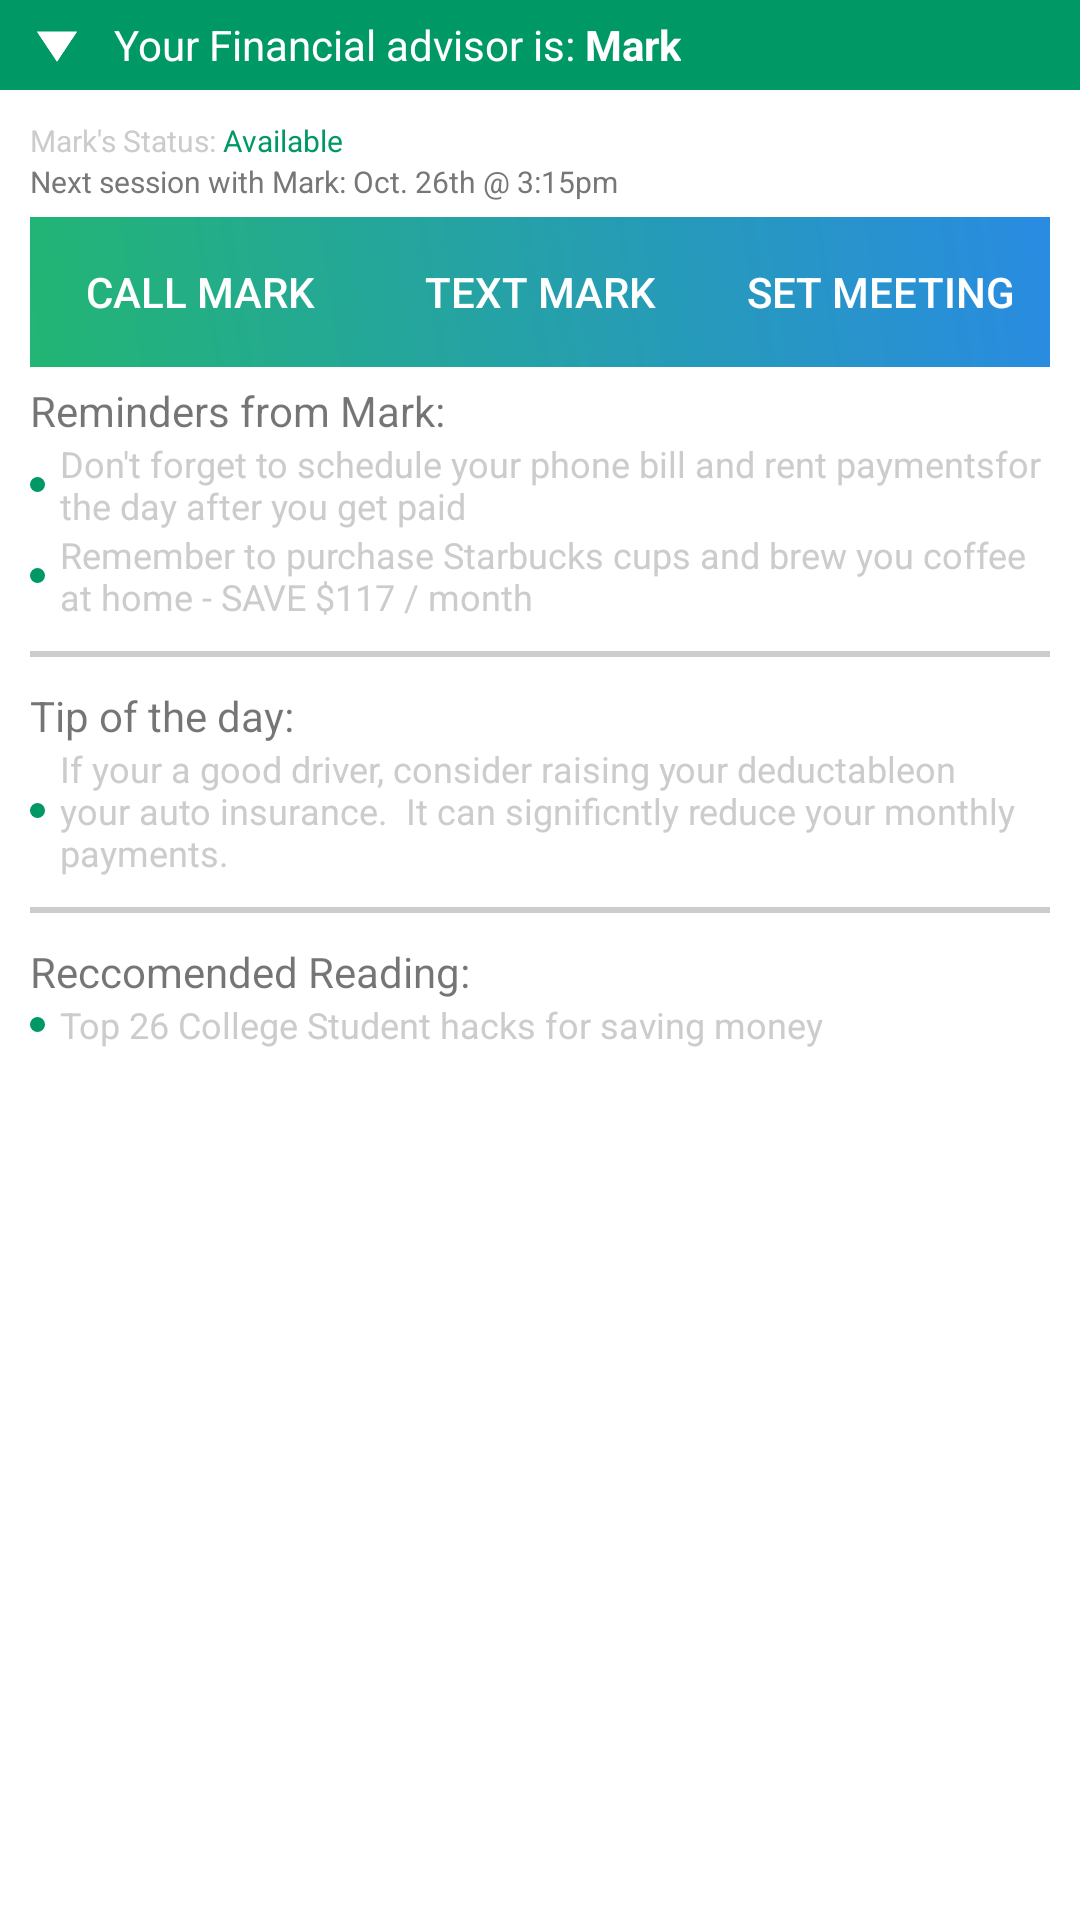

Where icons sit on this 1080 x 1920 app screen, as (x1, y1, x2, y2):
triangle down: (37, 31, 77, 62)
